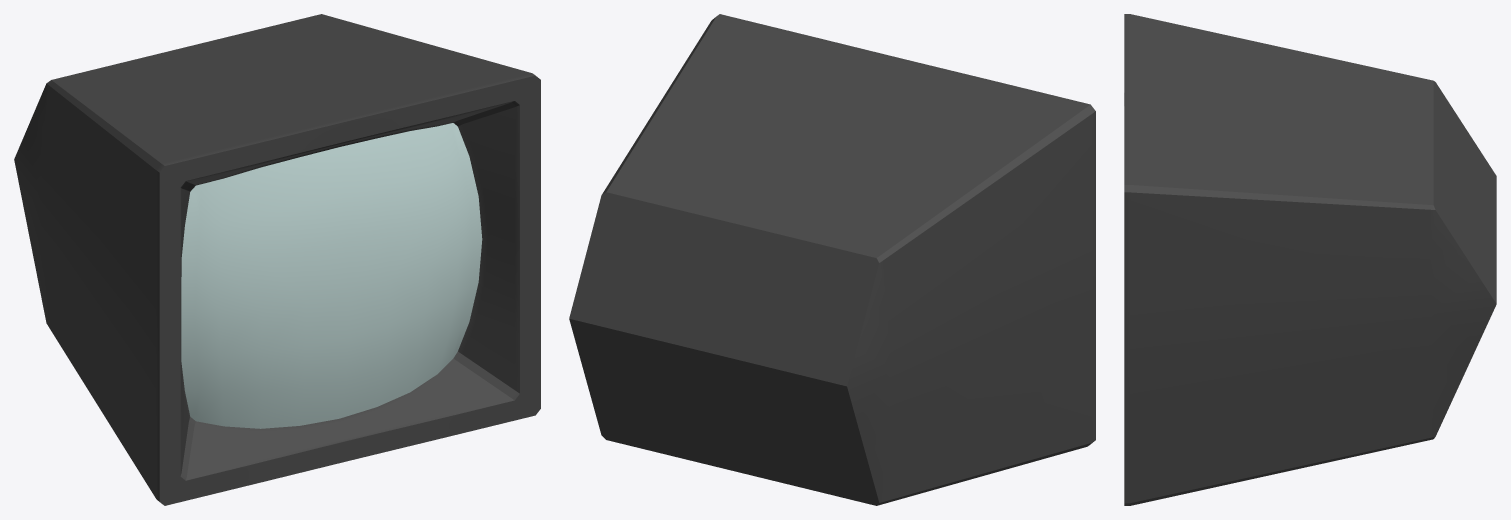
File: Monitor.fbx
The picture shows the model from 3 angles, left to right: view 1: azimuth 30°, elevation 25°; view 2: azimuth 150°, elevation 25°; view 3: azimuth 270°, elevation 25°; orthographic projection. The views are drawn at different scales.
Parts seen in each view (by area): view 1: pCube1; view 2: pCube1; view 3: pCube1.
Part boxes in pixels (left/top/right/bottom): pCube1: left=14, top=14, right=540, bottom=505; pCube1: left=569, top=14, right=1095, bottom=505; pCube1: left=1124, top=14, right=1496, bottom=505.
Bounding box in the file's own units: 85.67 × 73 × 76.75.
